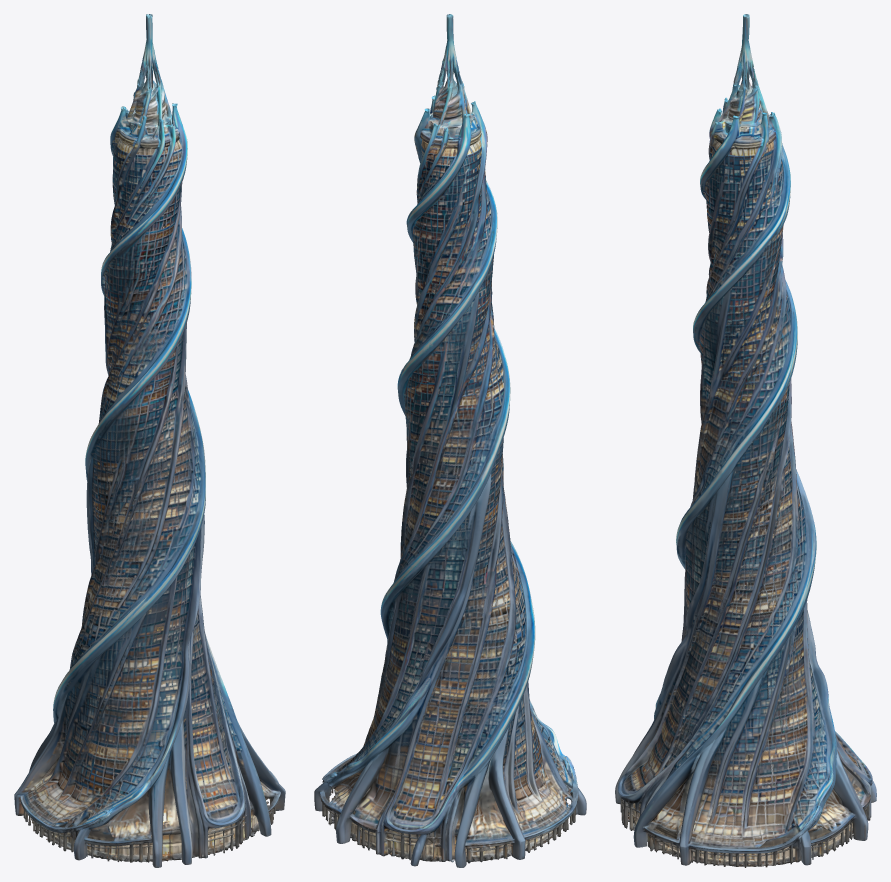
File: tower-a.glb
3 renders of one model, left to right at view 1: azimuth 30°, elevation 25°; view 2: azimuth 150°, elevation 25°; view 3: azimuth 270°, elevation 25°, orthographic.
Parts seen in each view (by area): view 1: tripo_node_f50950c7-ea0d-44ef-b474-ab0a5ac21cef; view 2: tripo_node_f50950c7-ea0d-44ef-b474-ab0a5ac21cef; view 3: tripo_node_f50950c7-ea0d-44ef-b474-ab0a5ac21cef.
Part boxes in pixels (x1,y1,x2,y2): tripo_node_f50950c7-ea0d-44ef-b474-ab0a5ac21cef: [14, 14, 285, 867]; tripo_node_f50950c7-ea0d-44ef-b474-ab0a5ac21cef: [314, 14, 586, 867]; tripo_node_f50950c7-ea0d-44ef-b474-ab0a5ac21cef: [615, 14, 876, 867].
Bounding box in the file's own units: 0.2902 × 0.9829 × 0.2908.
Materials: 1 (1 with a texture image).
